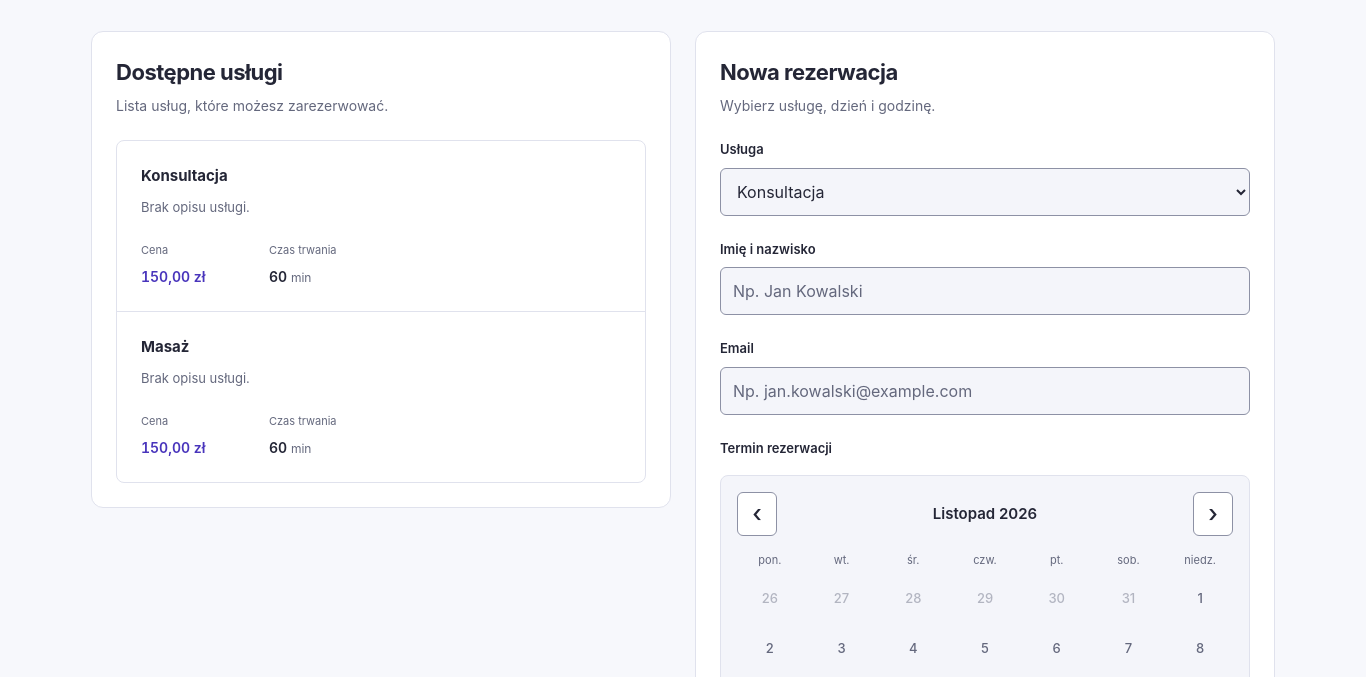
availability failures and stale responses › ignores a late resolve from the previously selected service
The width and height of the screenshot is (1366, 677).
Select "Masaż" in the dropdown labelled "Usługa": (985, 192) 720,168 -> 1250,216
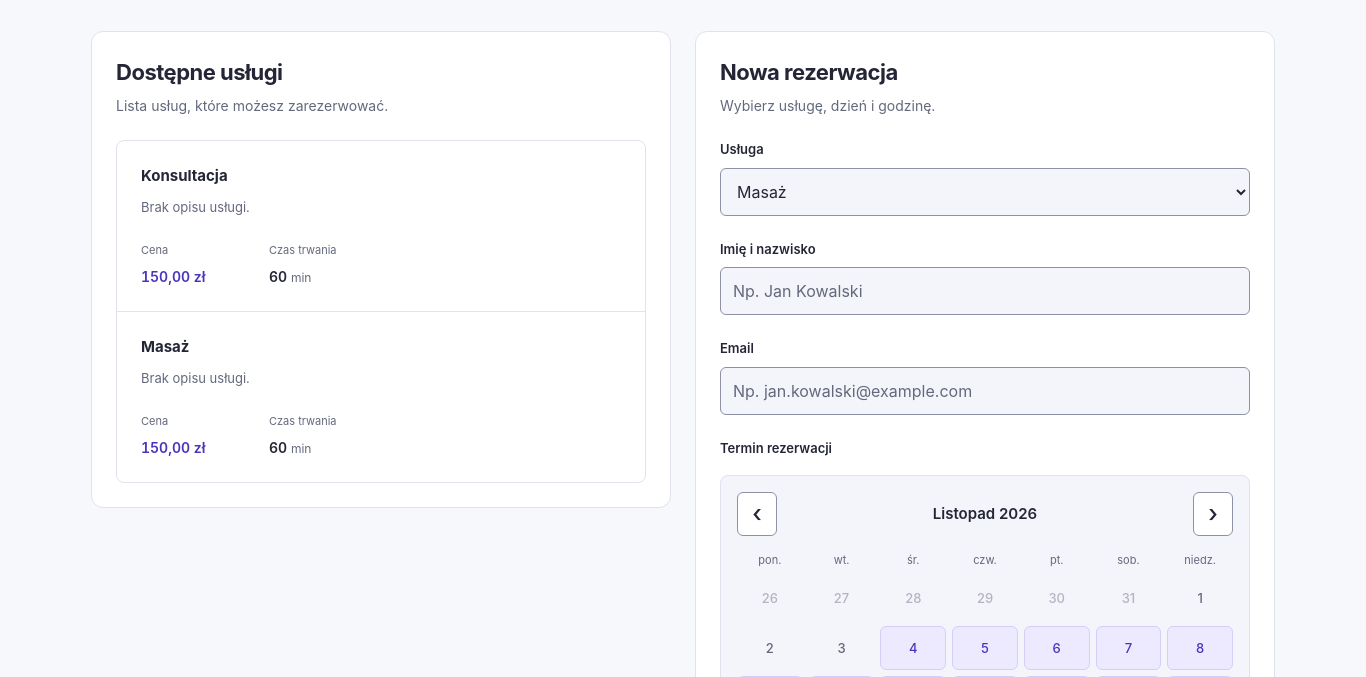
Click the button "4": (913, 648) 880,626 -> 946,670
(page scrolled)
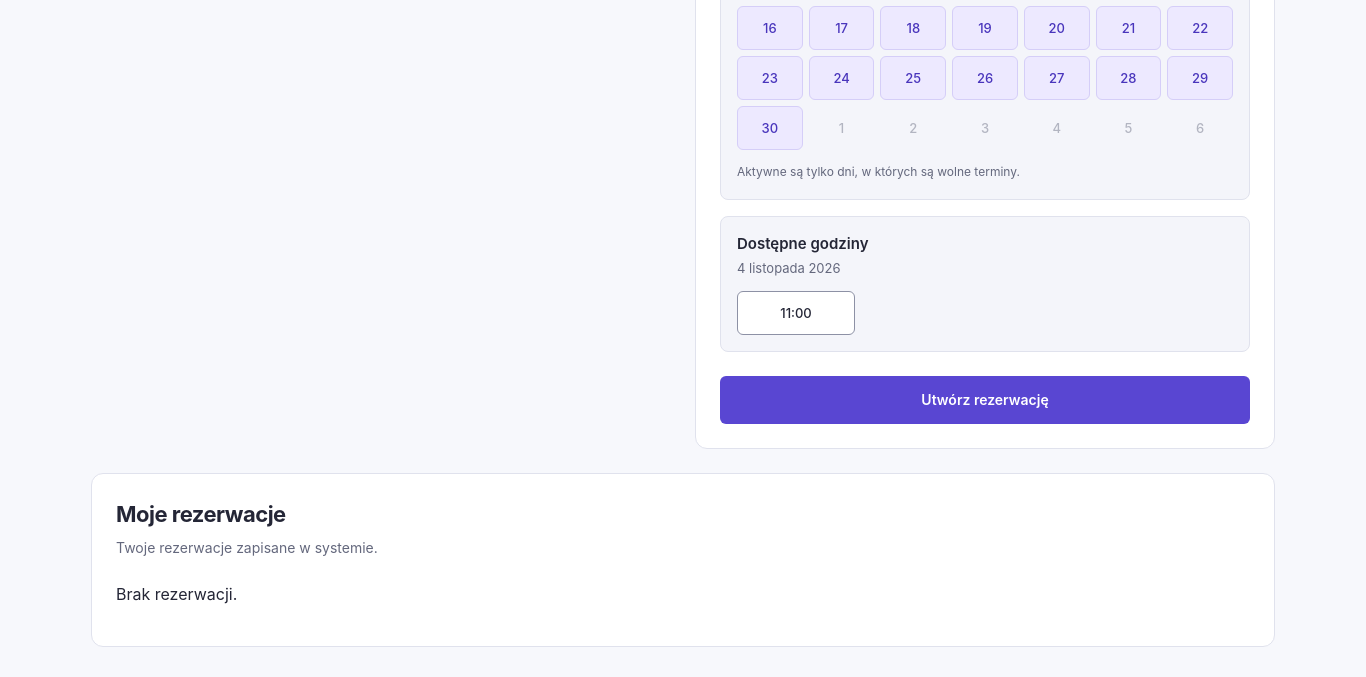
Expected: the button "11:00" is shown, 737,291 -> 855,335
